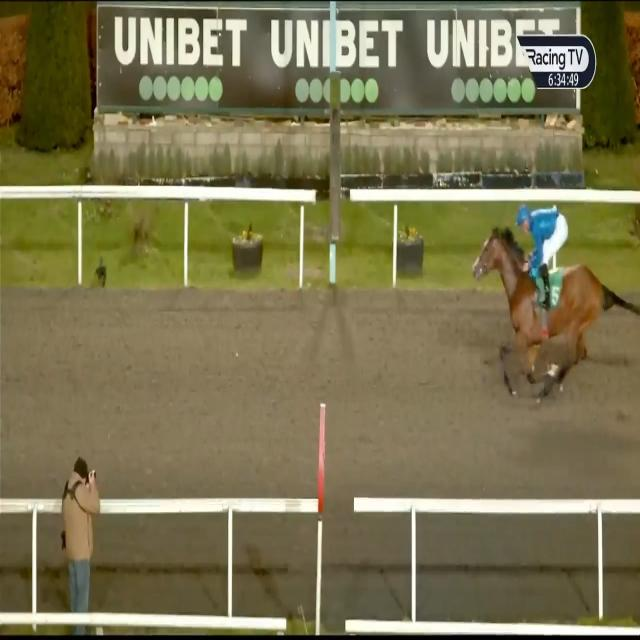horses-racing: (469, 199, 622, 408)
